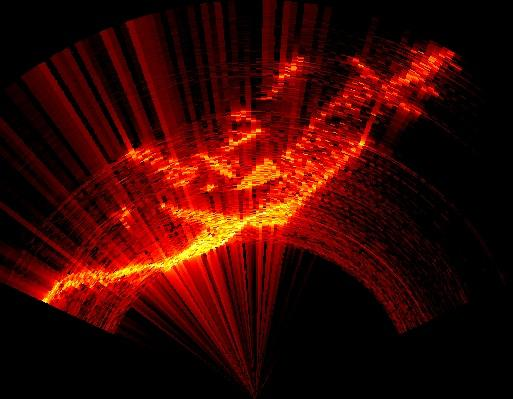shipwreck: (44, 49, 448, 300)
